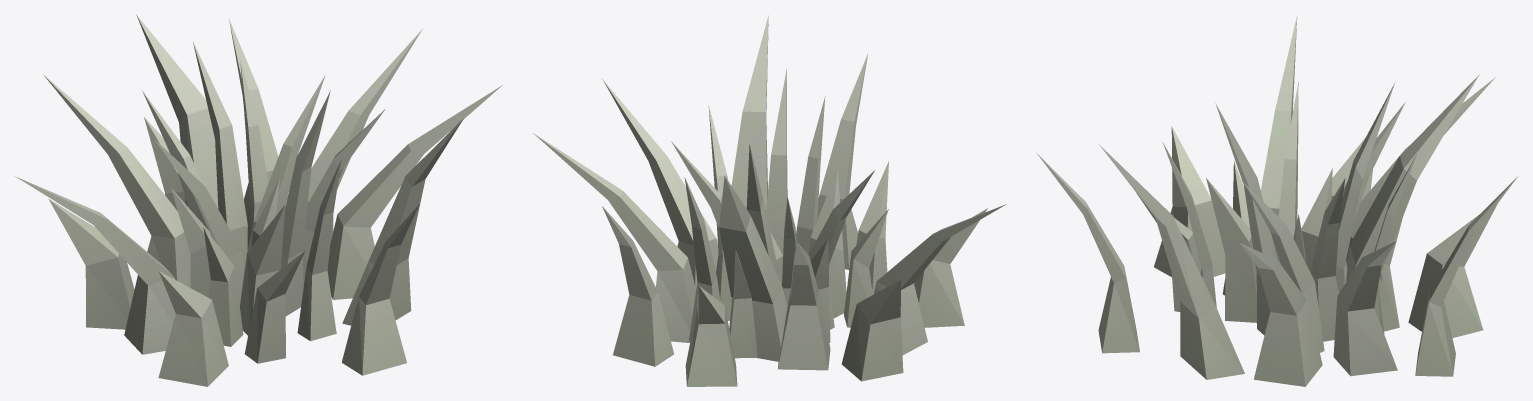
Rendered from grass_short.glb.
3 renders of one model, left to right at view 1: azimuth 30°, elevation 25°; view 2: azimuth 150°, elevation 25°; view 3: azimuth 270°, elevation 25°, orthographic. The views are drawn at different scales.
Visible parts, largest first — view 1: grass_short; view 2: grass_short; view 3: grass_short.
Boxes of the visible parts, x1=… form: grass_short: x1=15, y1=14, x2=502, y2=386; grass_short: x1=533, y1=15, x2=1006, y2=386; grass_short: x1=1036, y1=15, x2=1517, y2=386.
Size of the model in its own units: 0.7006 by 0.35 by 0.6258.
1 material, 1 textured.
